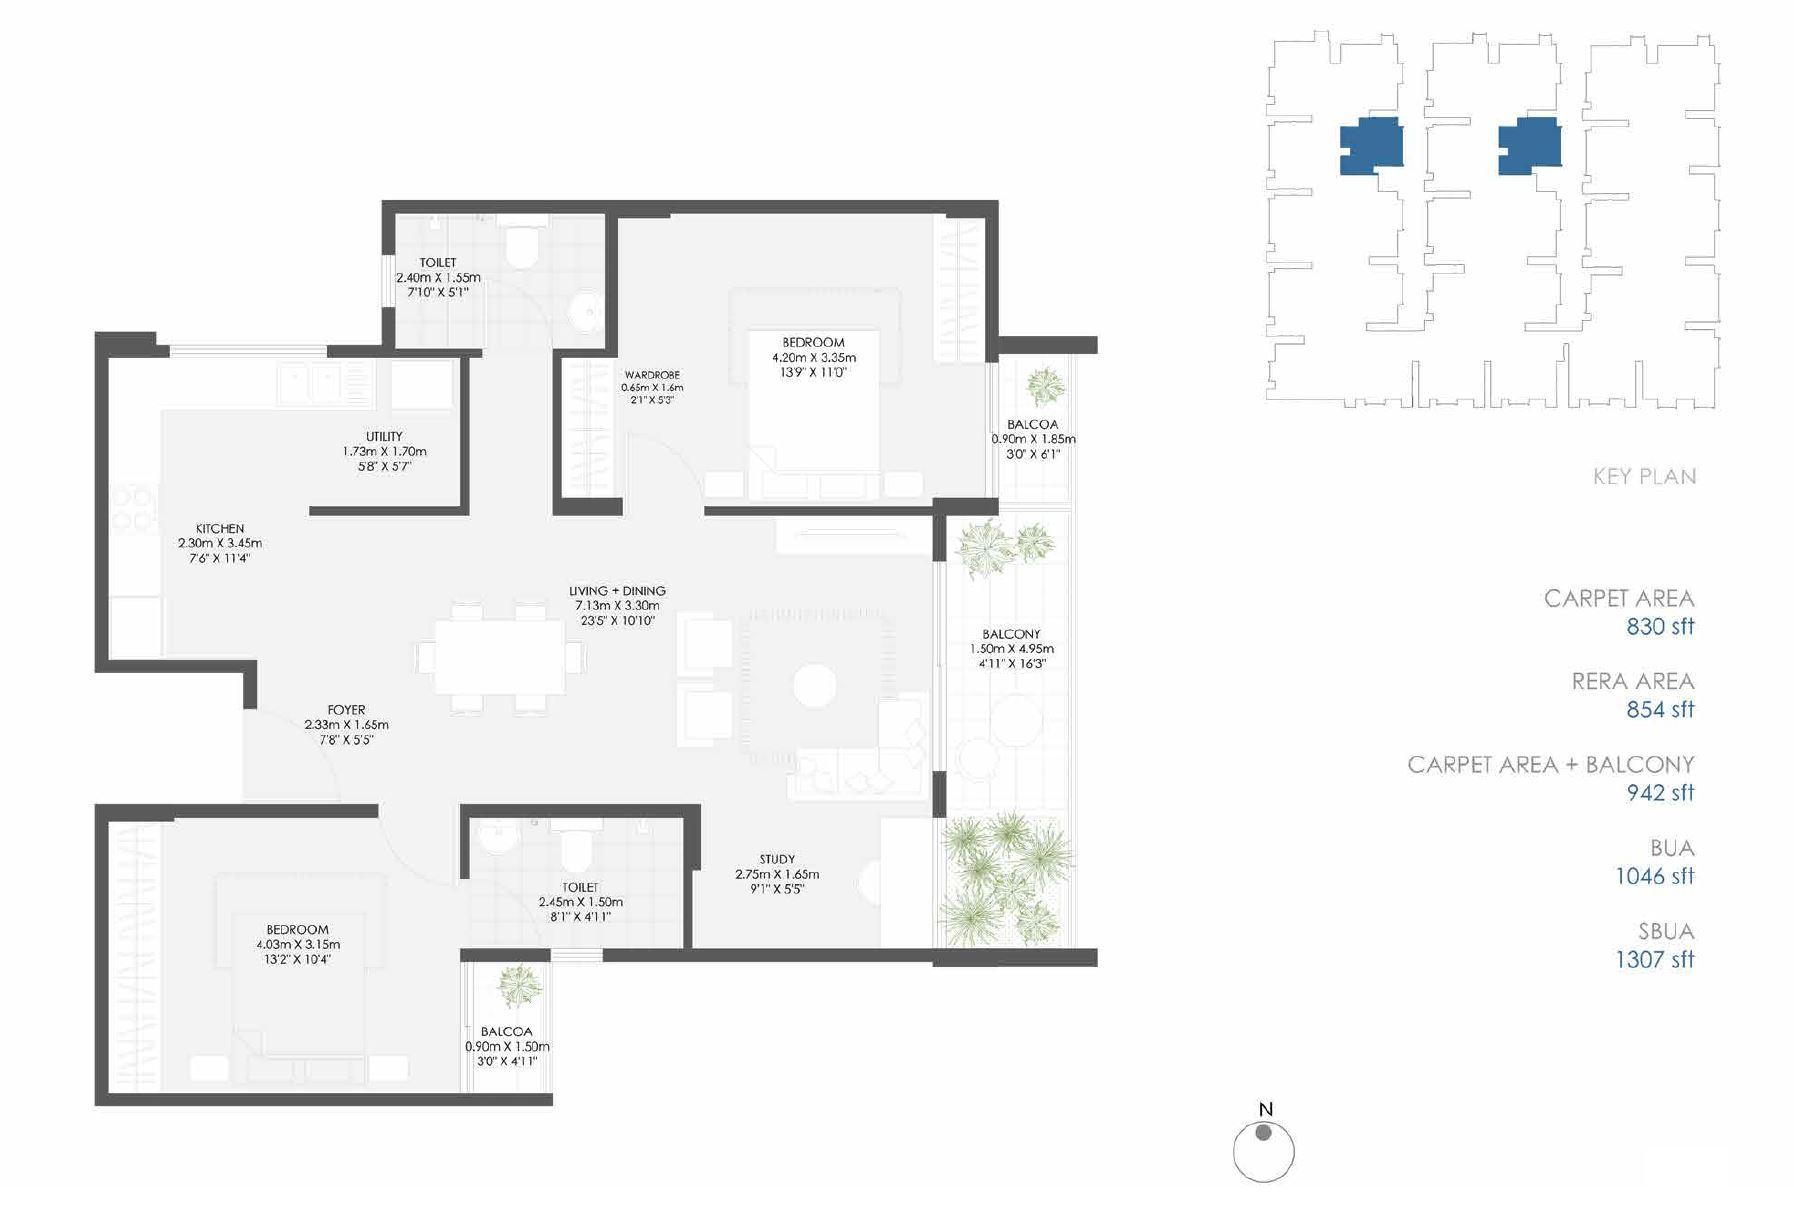Balcony: (935, 517, 1075, 953)
Bedroom: (622, 214, 980, 505), (117, 818, 461, 1088)
Dining Room: (380, 518, 650, 798)
Dining table: (408, 590, 593, 722)
Foyer: (248, 665, 384, 802)
Kitchen: (109, 354, 299, 666)
Living Room: (655, 518, 940, 801)
Wardrobe: (559, 357, 616, 497)
balcoa: (995, 353, 1079, 502), (465, 958, 548, 1092)
fridge: (110, 597, 163, 661)
kitchen-slab: (110, 357, 163, 597), (110, 357, 278, 411)
study: (693, 806, 930, 949)
toilet: (465, 817, 687, 950), (388, 214, 605, 349)
utility: (307, 358, 461, 506)
washing-machine: (391, 361, 456, 411)
